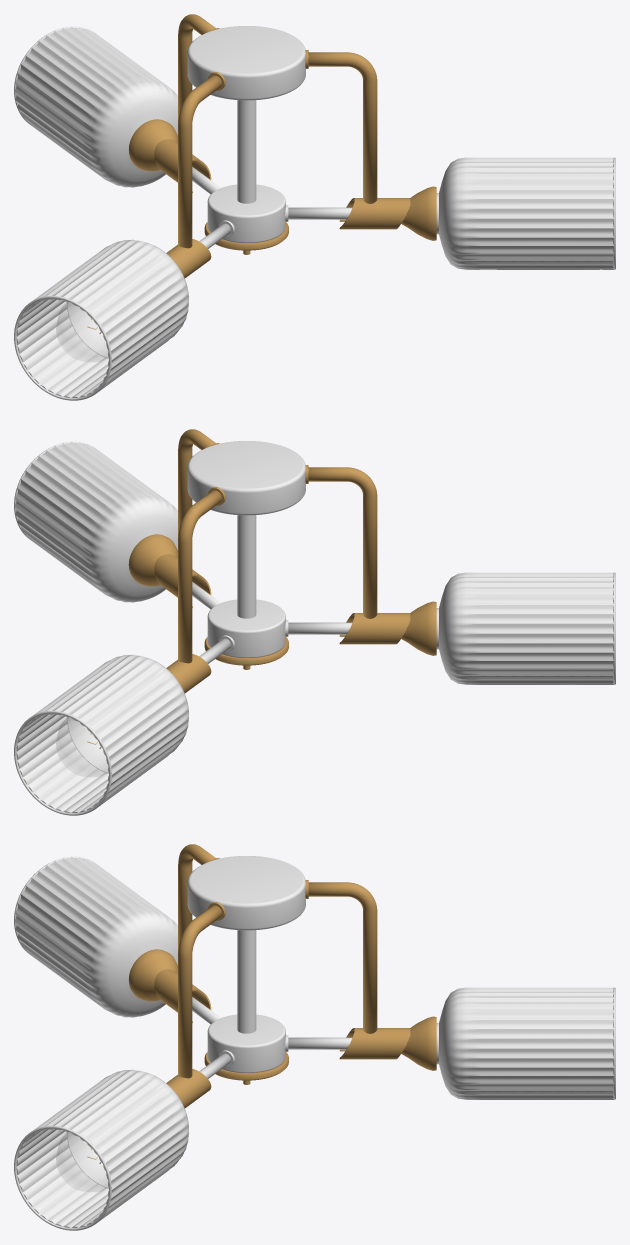
The picture shows the model from 3 angles, top to bottom: view 1: azimuth 30°, elevation 25°; view 2: azimuth 150°, elevation 25°; view 3: azimuth 270°, elevation 25°; orthographic projection.
Visible parts, largest first — view 1: glass, gold, white, s0_bulb, frost; view 2: glass, gold, white, s0_bulb, frost; view 3: glass, gold, white, s0_bulb, frost.
Part boxes in pixels (x1,y1,x2,y2): glass: (14, 26, 615, 400); gold: (128, 14, 436, 278); white: (187, 26, 352, 248); s0_bulb: (56, 302, 108, 361); frost: (66, 302, 108, 358); glass: (14, 441, 615, 815); gold: (128, 429, 436, 693); white: (187, 441, 352, 663); s0_bulb: (56, 717, 108, 776); frost: (66, 717, 108, 773); glass: (14, 856, 615, 1230); gold: (128, 844, 436, 1108); white: (187, 856, 352, 1078); s0_bulb: (56, 1132, 108, 1191); frost: (66, 1132, 108, 1188).
Bounding box in the file's own units: 0.5856 × 0.2 × 0.5075.
Materials: 7 (7 with a texture image).
